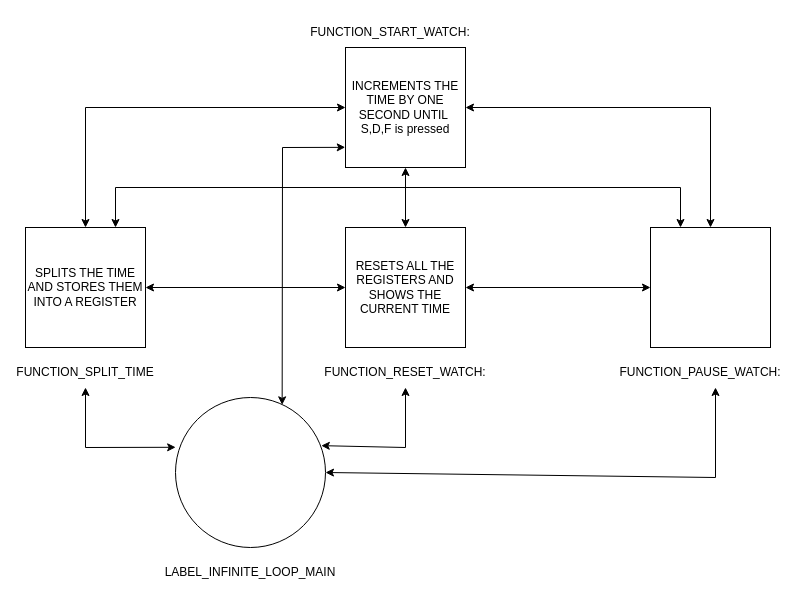
Some shapes in this 798 by 604 pixel diagram are drawn without their labels. Here are the shapes that lost their labels. From the top down, the centre of each, then its label:
[710,287]: PAUSES THE WATCH TILL NEXT K VALID KEY IS PRESSED
[250,472]: HANDLES INITIAL PRESSING OF A ,S , D ,F
